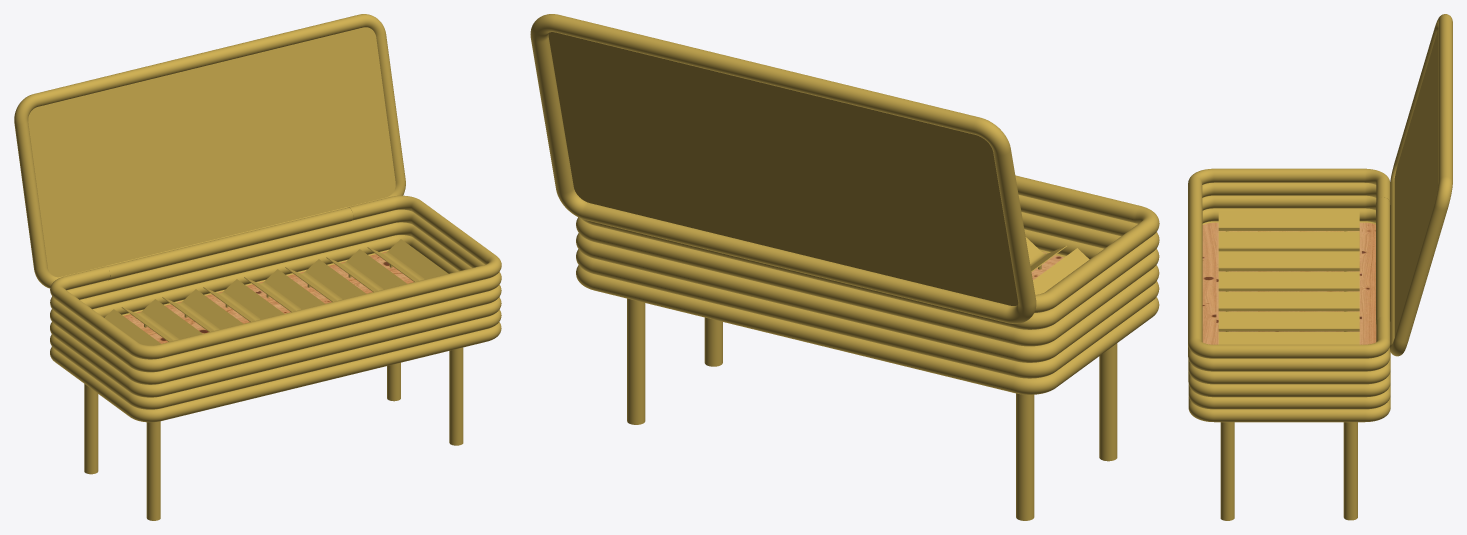
Rendered from brushed-brass.glb.
3 views of the same model, side by side, from view 1: azimuth 30°, elevation 25°; view 2: azimuth 150°, elevation 25°; view 3: azimuth 270°, elevation 25° (orthographic). The views are drawn at different scales.
Parts seen in each view (by area): view 1: COUVERCLE, N5.3 (×2), N5.1, Booléen, N5, N5.5, N5.4, charnière N2/N1, double fond, Cylindre.5, Extrusion.1, Extrusion.7 (+8 smaller); view 2: COUVERCLE, N5.3 (×2), N5, N5.5, N5.4, N5.1, Booléen, Cylindre.4, Cylindre.6, Cylindre.5, Extrusion, Cylindre.7; view 3: N5.3 (×2), Booléen, COUVERCLE, N5.1, double fond, N5, Extrusion.5, Extrusion.2, Extrusion.1, Extrusion.4, Extrusion.3, Extrusion (+6 smaller).
Part boxes in pixels (x1,y1,x2,y2): COUVERCLE: (28, 27, 395, 277); N5.3 (×2): (14, 14, 501, 384); N5.1: (50, 209, 501, 372); Booléen: (50, 195, 501, 359); N5: (50, 235, 501, 397); N5.5: (50, 322, 501, 422); N5.4: (50, 249, 501, 409); charnière N2/N1: (106, 207, 353, 280); double fond: (123, 251, 413, 343); Cylindre.5: (146, 421, 160, 520); Extrusion.1: (121, 299, 202, 341); Extrusion.7: (367, 239, 448, 281); COUVERCLE: (548, 32, 1018, 305); N5.3 (×2): (530, 14, 1159, 346); N5: (576, 229, 1159, 362); N5.5: (576, 265, 1159, 394); N5.4: (576, 249, 1159, 378); N5.1: (582, 195, 1159, 329); Booléen: (1015, 175, 1159, 313); Cylindre.4: (1016, 393, 1034, 520); Cylindre.6: (627, 298, 645, 424); Cylindre.5: (1099, 343, 1117, 461); Extrusion: (1033, 248, 1089, 294); Cylindre.7: (704, 317, 722, 366); N5.3 (×2): (1188, 14, 1452, 384); Booléen: (1188, 168, 1390, 358); COUVERCLE: (1394, 29, 1438, 336); N5.1: (1188, 182, 1390, 371); double fond: (1202, 222, 1376, 344); N5: (1188, 208, 1390, 397); Extrusion.5: (1218, 311, 1359, 331); Extrusion.2: (1218, 251, 1359, 271); Extrusion.1: (1218, 231, 1359, 251); Extrusion.4: (1218, 291, 1359, 311); Extrusion.3: (1218, 271, 1359, 291); Extrusion: (1218, 211, 1359, 230).
Size of the model in its own units: 0.9155 by 0.8159 by 0.563.
Materials: 2 (1 with a texture image).
